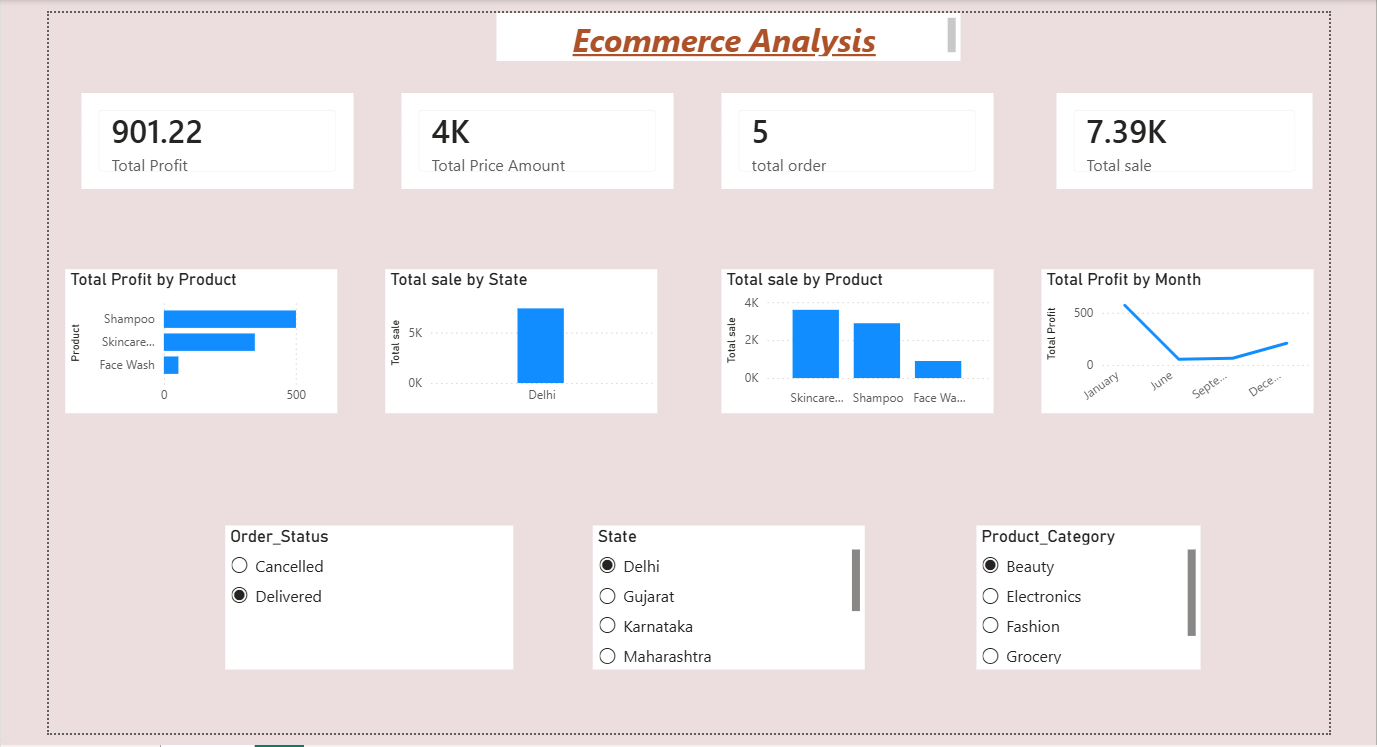

What the dashboard file says about the page in this screenshot:
{"tool":"powerbi","page":{"name":"Page 1","canvas":[1280,720],"ordinal":0},"visuals":[{"type":"cardVisual","fields":{"Data":["Ecommerce_Data.Total Profit"]},"box":[32,80,272,96],"z":0},{"type":"cardVisual","fields":{"Data":["Ecommerce_Data.Total Price Amount"]},"box":[352,80,272,96],"z":1000},{"type":"barChart","fields":{"Y":["Ecommerce_Data.Total Profit"],"Category":["Ecommerce_Data.Product"]},"box":[16,256,272,144],"z":2000},{"type":"columnChart","fields":{"Y":["Ecommerce_Data.Total sale"],"Category":["Ecommerce_Data.Product"]},"box":[672,256,272,144],"z":3000},{"type":"clusteredColumnChart","fields":{"Category":["Ecommerce_Data.State"],"Y":["Ecommerce_Data.Total sale"]},"box":[336,256,272,144],"z":4000},{"type":"cardVisual","fields":{"Data":["Ecommerce_Data.total order"]},"box":[672,80,272,96],"z":5000},{"type":"cardVisual","fields":{"Data":["Ecommerce_Data.Total sale"]},"box":[1008,80,256,96],"z":6000},{"type":"listSlicer","fields":{"Values":["Ecommerce_Data.Order_Status"]},"box":[176,512,288,144],"z":7000},{"type":"lineChart","fields":{"Category":["Ecommerce_Data.Order_Date.Variation.Date Hierarchy.Month"],"Y":["Ecommerce_Data.Total Profit"]},"box":[992,256,272,144],"z":8000},{"type":"listSlicer","fields":{"Values":["Ecommerce_Data.State"]},"box":[544,512,272,144],"z":9000},{"type":"listSlicer","fields":{"Values":["Ecommerce_Data.Product_Category"]},"box":[928,512,224,144],"z":10000},{"type":"textbox","box":[448,0,464,48],"z":11000}]}

Visuals, with their boxes on the page's 1280x720 design canvas (x1, y1, x2, y2). These are canvas units, not pixel positions in the 1377x747 screenshot, which may show the page scaled, cropped or inside an application window:
cardVisual - Ecommerce_Data.Total Profit: left=32, top=80, right=304, bottom=176
cardVisual - Ecommerce_Data.Total Price Amount: left=352, top=80, right=624, bottom=176
barChart - Ecommerce_Data.Total Profit x Ecommerce_Data.Product: left=16, top=256, right=288, bottom=400
columnChart - Ecommerce_Data.Total sale x Ecommerce_Data.Product: left=672, top=256, right=944, bottom=400
clusteredColumnChart - Ecommerce_Data.State x Ecommerce_Data.Total sale: left=336, top=256, right=608, bottom=400
cardVisual - Ecommerce_Data.total order: left=672, top=80, right=944, bottom=176
cardVisual - Ecommerce_Data.Total sale: left=1008, top=80, right=1264, bottom=176
listSlicer - Ecommerce_Data.Order_Status: left=176, top=512, right=464, bottom=656
lineChart - Ecommerce_Data.Order_Date.Variation.Date Hierarchy.Month x Ecommerce_Data.Total Profit: left=992, top=256, right=1264, bottom=400
listSlicer - Ecommerce_Data.State: left=544, top=512, right=816, bottom=656
listSlicer - Ecommerce_Data.Product_Category: left=928, top=512, right=1152, bottom=656
textbox: left=448, top=0, right=912, bottom=48
